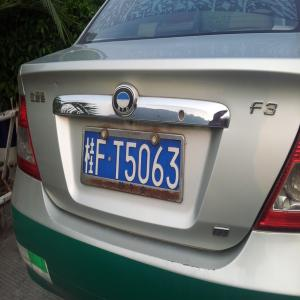Vehicle-registration-plate: (77, 119, 189, 210)
